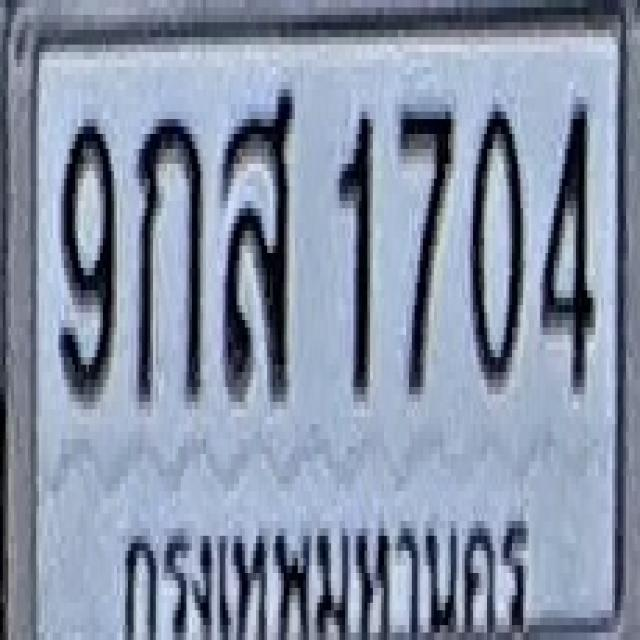0: (468, 97, 523, 387)
1: (337, 104, 373, 394)
4: (541, 97, 594, 387)
7: (398, 97, 453, 394)
9: (59, 111, 114, 402)
A01: (135, 111, 202, 402)
A40: (221, 86, 294, 398)
BKK: (106, 504, 534, 640)
